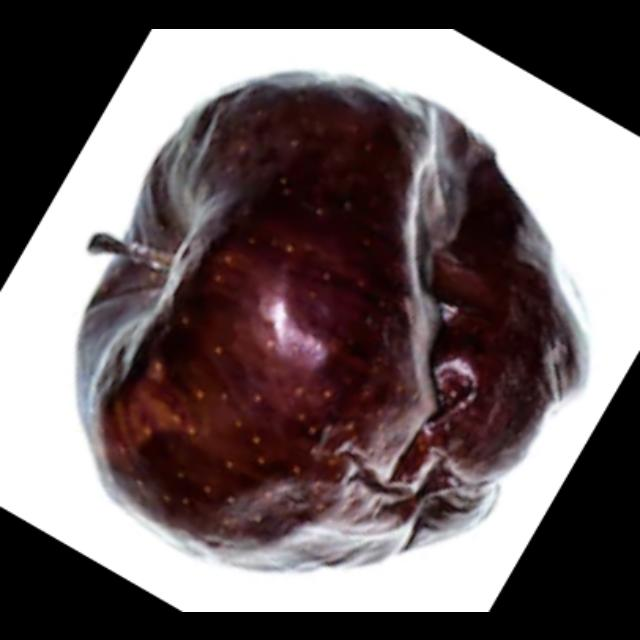Apel Tidak Segar: (69, 61, 599, 581)
